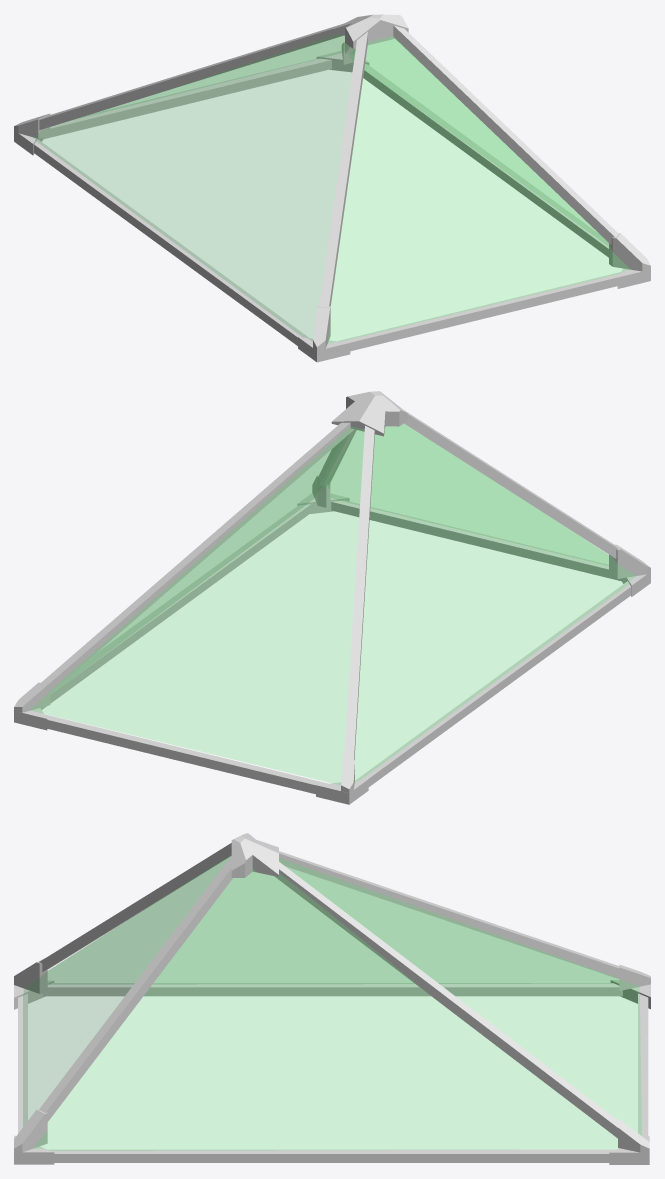
Rendered from pyramid-walled.glb.
The picture shows the model from 3 angles, top to bottom: view 1: azimuth 30°, elevation 25°; view 2: azimuth 150°, elevation 25°; view 3: azimuth 270°, elevation 25°; orthographic projection. The views are drawn at different scales.
Parts seen in each view (by area): view 1: Pyramid cloud frame.003, Pyramid cloud frame.002, Pyramid cloud frame, Pyramid cloud frame.004, Pyramid cloud frame.001; view 2: Pyramid cloud frame.001, Pyramid cloud frame.003, Pyramid cloud frame, Pyramid cloud frame.002, Pyramid cloud frame.004; view 3: Pyramid cloud frame.004, Pyramid cloud frame, Pyramid cloud frame.003, Pyramid cloud frame.001, Pyramid cloud frame.002.
Boxes of the visible parts, x1=… form: Pyramid cloud frame.003: x1=32, y1=34, x2=355, y2=341; Pyramid cloud frame.002: x1=328, y1=36, x2=629, y2=343; Pyramid cloud frame: x1=14, y1=14, x2=650, y2=362; Pyramid cloud frame.004: x1=349, y1=39, x2=608, y2=245; Pyramid cloud frame.001: x1=85, y1=36, x2=347, y2=116; Pyramid cloud frame.001: x1=30, y1=426, x2=364, y2=784; Pyramid cloud frame.003: x1=355, y1=424, x2=635, y2=782; Pyramid cloud frame: x1=14, y1=391, x2=650, y2=804; Pyramid cloud frame.002: x1=325, y1=424, x2=608, y2=565; Pyramid cloud frame.004: x1=51, y1=435, x2=348, y2=693; Pyramid cloud frame.004: x1=34, y1=869, x2=618, y2=1150; Pyramid cloud frame: x1=14, y1=833, x2=650, y2=1164; Pyramid cloud frame.003: x1=48, y1=856, x2=618, y2=983; Pyramid cloud frame.001: x1=279, y1=858, x2=641, y2=1135; Pyramid cloud frame.002: x1=23, y1=855, x2=231, y2=1126.
Bounding box in the file's own units: 0.6057 × 0.392 × 0.945.
